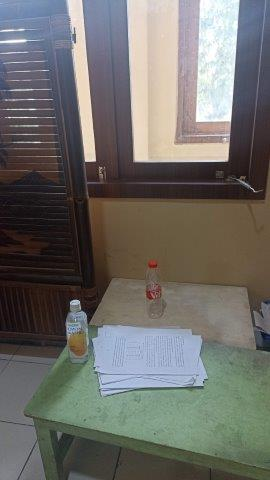botolplastik: (63, 301, 88, 367), (146, 260, 165, 318)
kertas: (96, 325, 209, 392)
